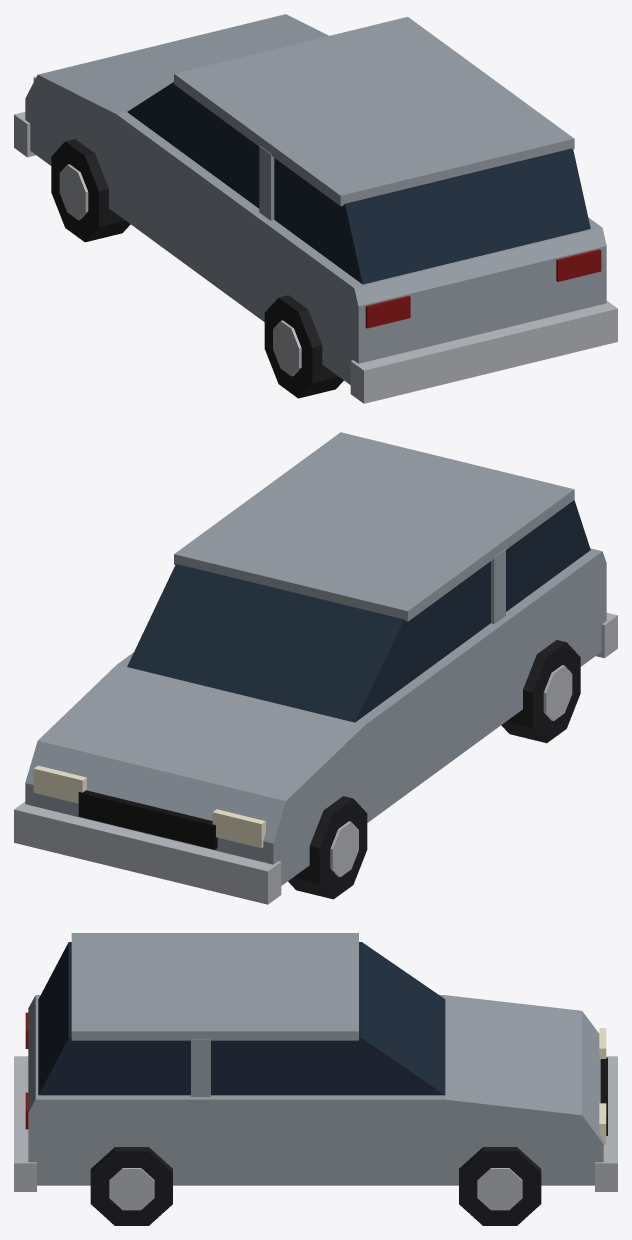
Rendered from CarHatchSilver.obj.
3 views of the same model, one above another, from view 1: azimuth 30°, elevation 25°; view 2: azimuth 150°, elevation 25°; view 3: azimuth 270°, elevation 25° (orthographic). The views are drawn at different scales.
Parts seen in each view (by area): view 1: CarHatchSilver; view 2: CarHatchSilver; view 3: CarHatchSilver.
Boxes of the visible parts, <box> form: CarHatchSilver: <box>14,14,617,403</box>; CarHatchSilver: <box>14,432,617,904</box>; CarHatchSilver: <box>14,933,617,1225</box>.
Bounding box in the file's own units: 1.89 × 1.44 × 4.2.
Materials: 1 (1 with a texture image).
